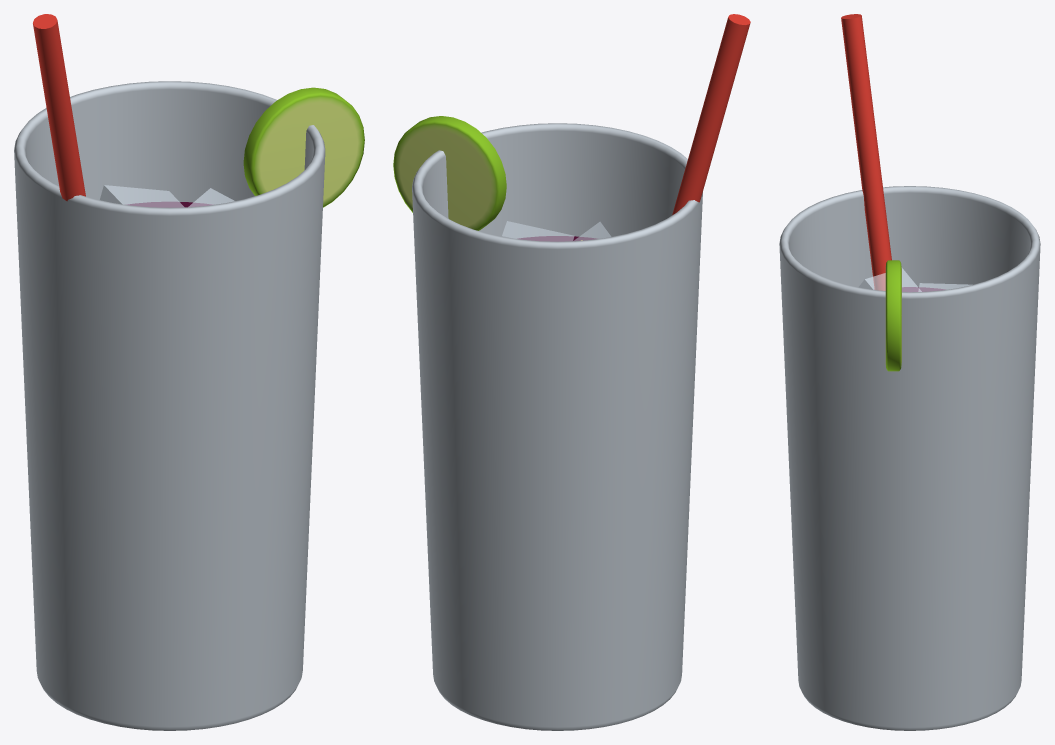
File: bebida.glb
3 renders of one model, left to right at view 1: azimuth 30°, elevation 25°; view 2: azimuth 150°, elevation 25°; view 3: azimuth 270°, elevation 25°, orthographic. The views are drawn at different scales.
Parts seen in each view (by area): view 1: bebida; view 2: bebida; view 3: bebida.
Boxes of the visible parts, x1,y1,x2,y2 form: bebida: [14, 14, 364, 730]; bebida: [393, 14, 750, 730]; bebida: [779, 14, 1040, 730].
Bounding box in the file's own units: 0.1045 × 0.2046 × 0.08.
